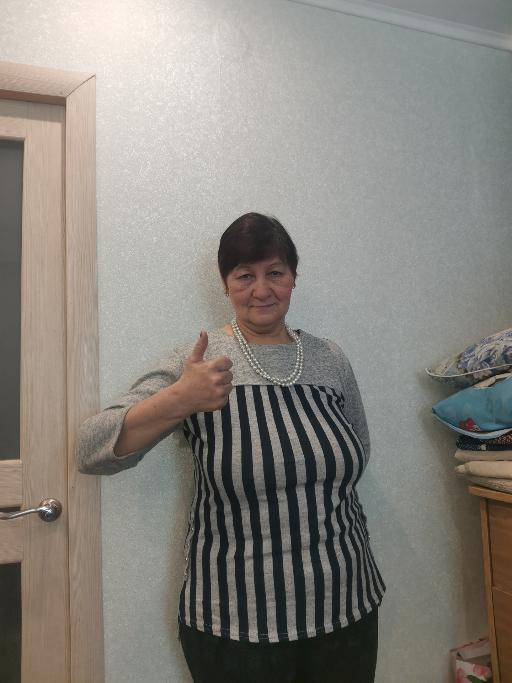like: (174, 328, 235, 414)
